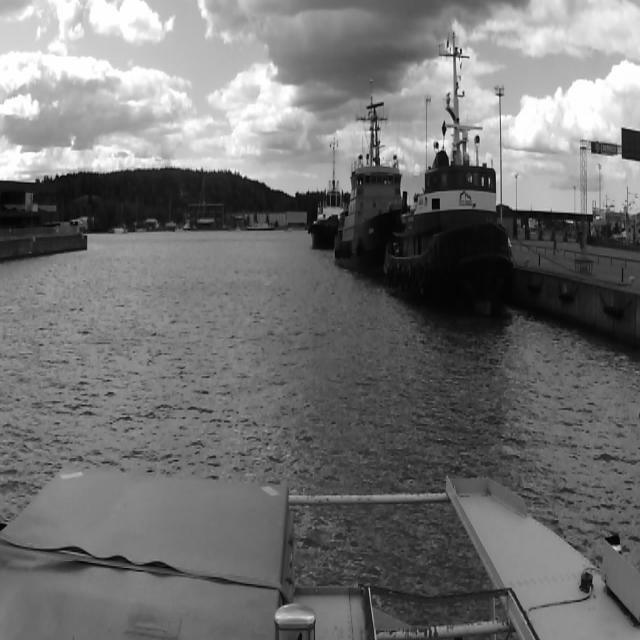ship: (385, 154, 519, 312), (332, 96, 414, 263)
